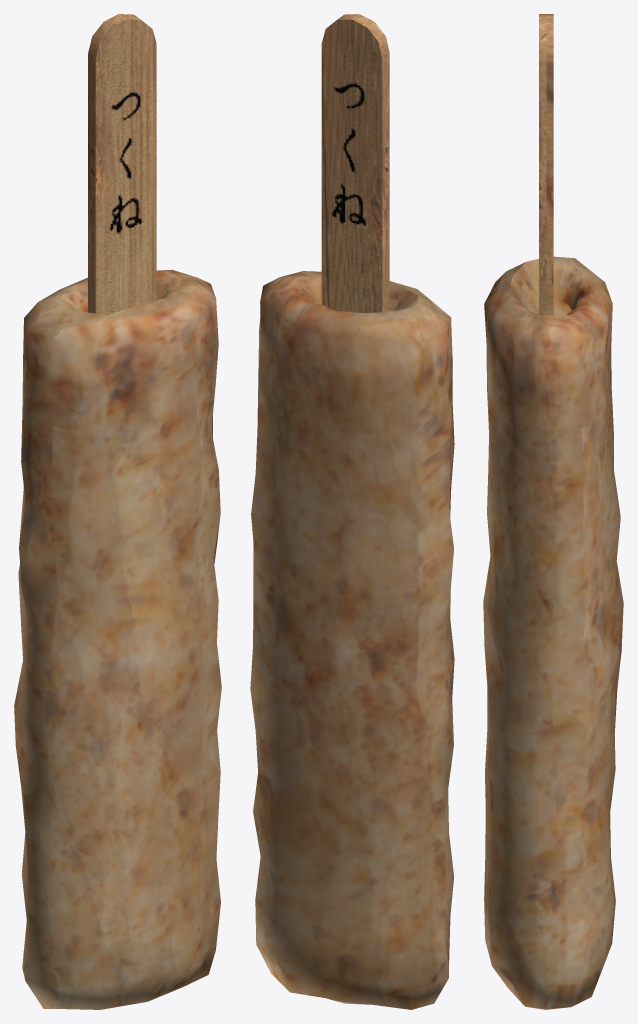
The model's file is tukune.fbx.
3 views of the same model, side by side, from view 1: azimuth 30°, elevation 25°; view 2: azimuth 150°, elevation 25°; view 3: azimuth 270°, elevation 25° (orthographic).
Visible parts, largest first — view 1: tukune; view 2: tukune; view 3: tukune.
Boxes of the visible parts, <box> form: tukune: <box>14,14,221,1009</box>; tukune: <box>250,14,454,1009</box>; tukune: <box>483,14,623,1009</box>.
Size of the model in its own units: 1.75 by 8.22 by 1.08.
